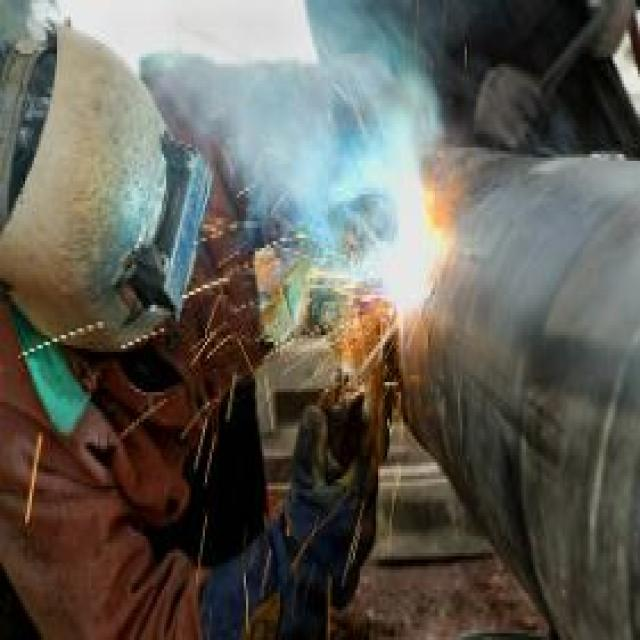welding: (386, 225, 430, 318)
